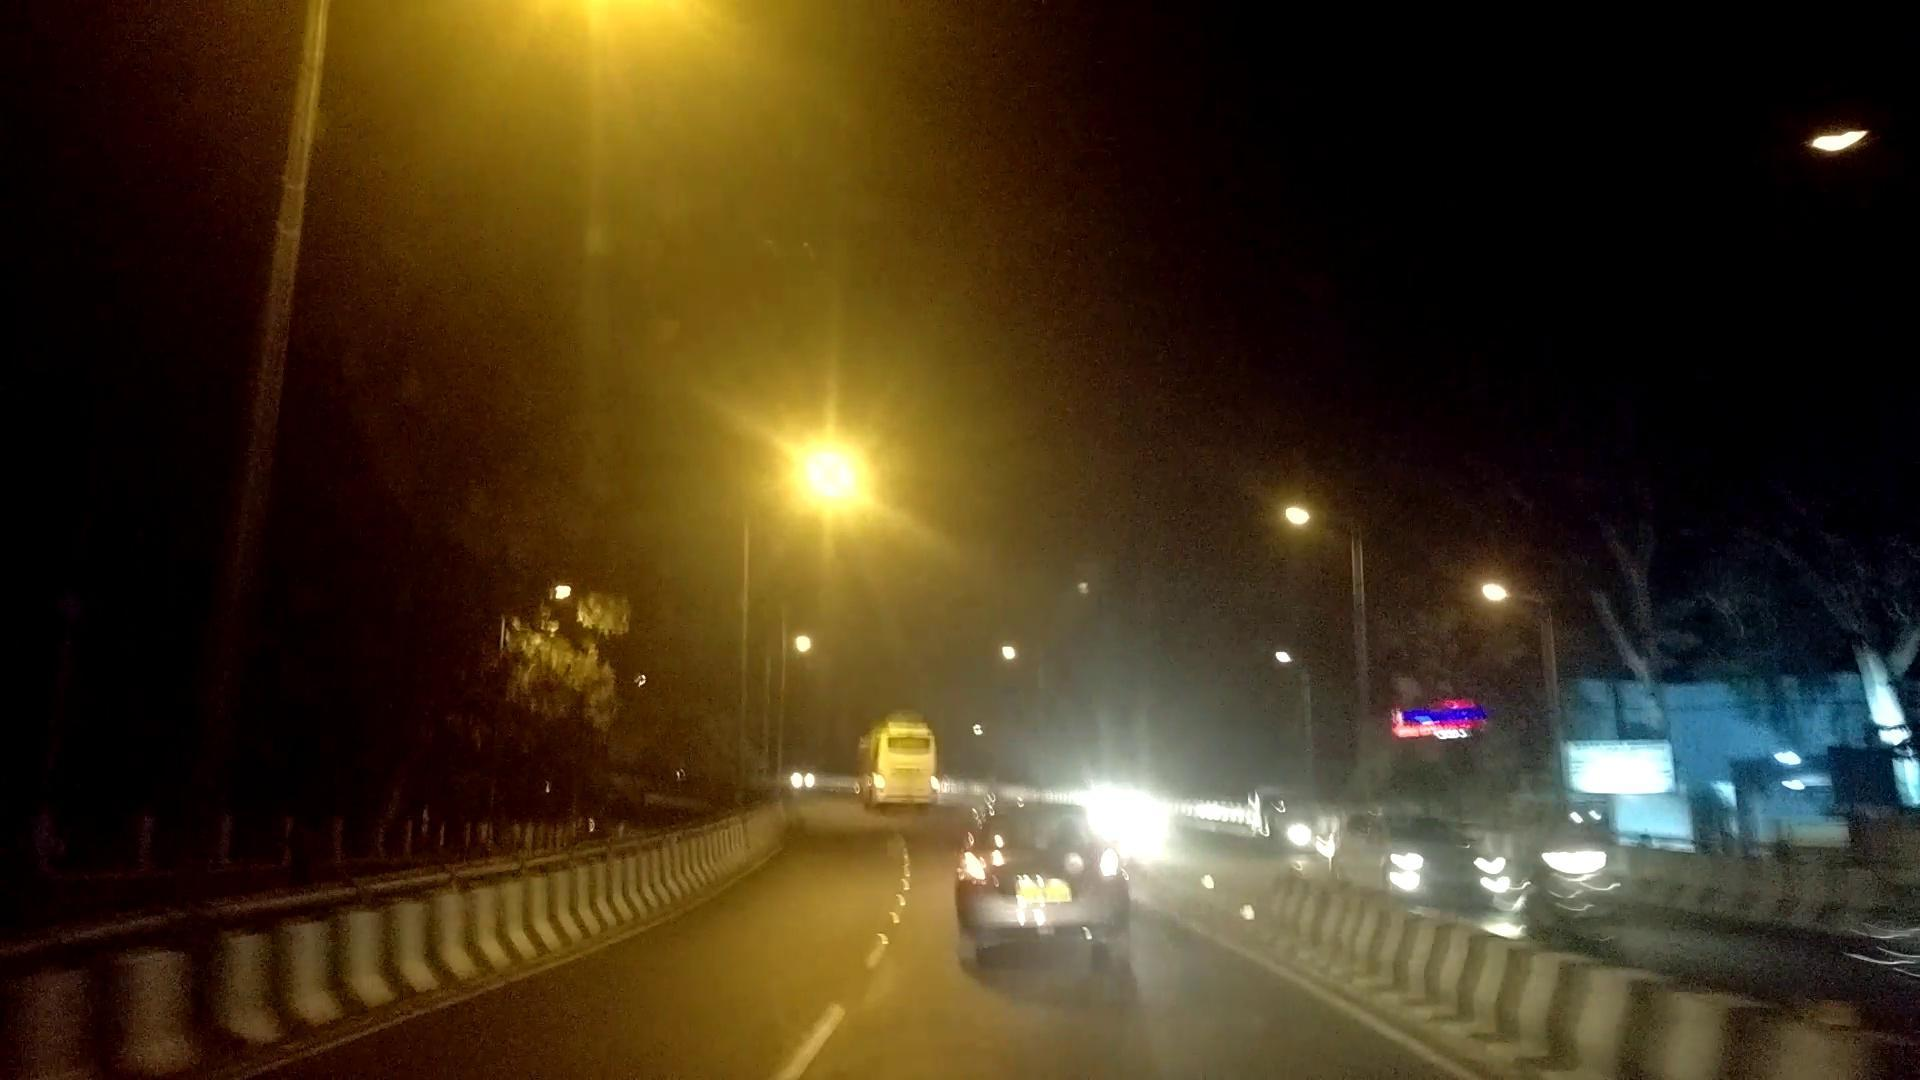on: (410, 12, 943, 251), (720, 291, 967, 667)
